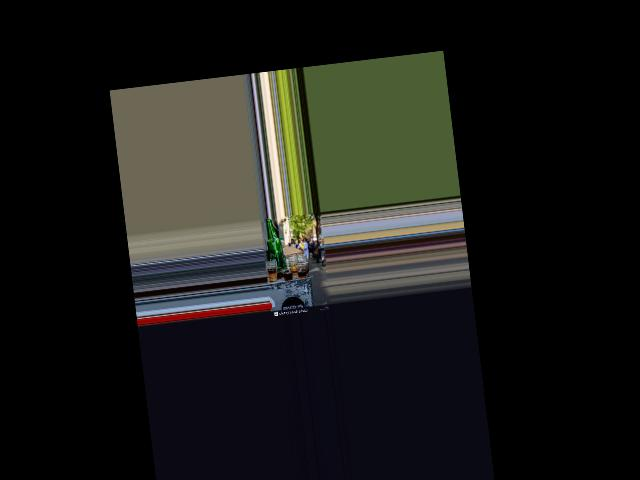beer: (264, 218, 288, 276)
